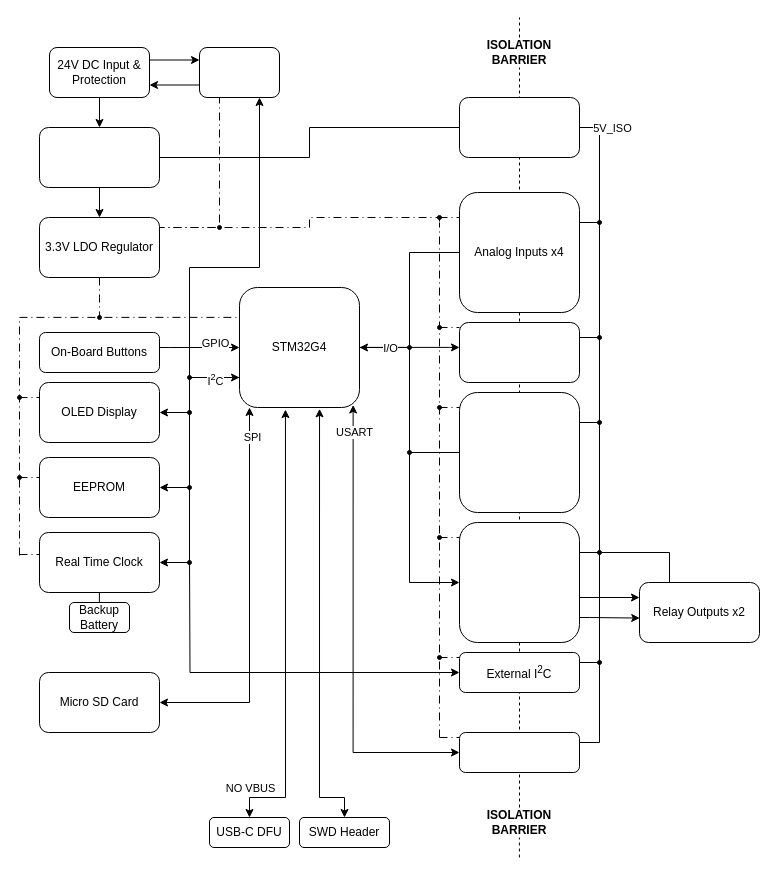
The diagram is 777 pixels wide and 876 high, and some of its shapes have lost their labels. Here are the shapes that lost their labels. From the top down, the centre of each, then its label:
At point (239, 72): "Power Monitoring".
At point (519, 127): "DC/DC Isolation Power Supply".
At point (99, 157): "5V Buck Converter (High Efficiency)".
At point (519, 352): "Analog Outputs x2".
At point (519, 452): "Digital Inputs x4".
At point (519, 582): "Digital Outputs x4".
At point (519, 752): "RS485".
